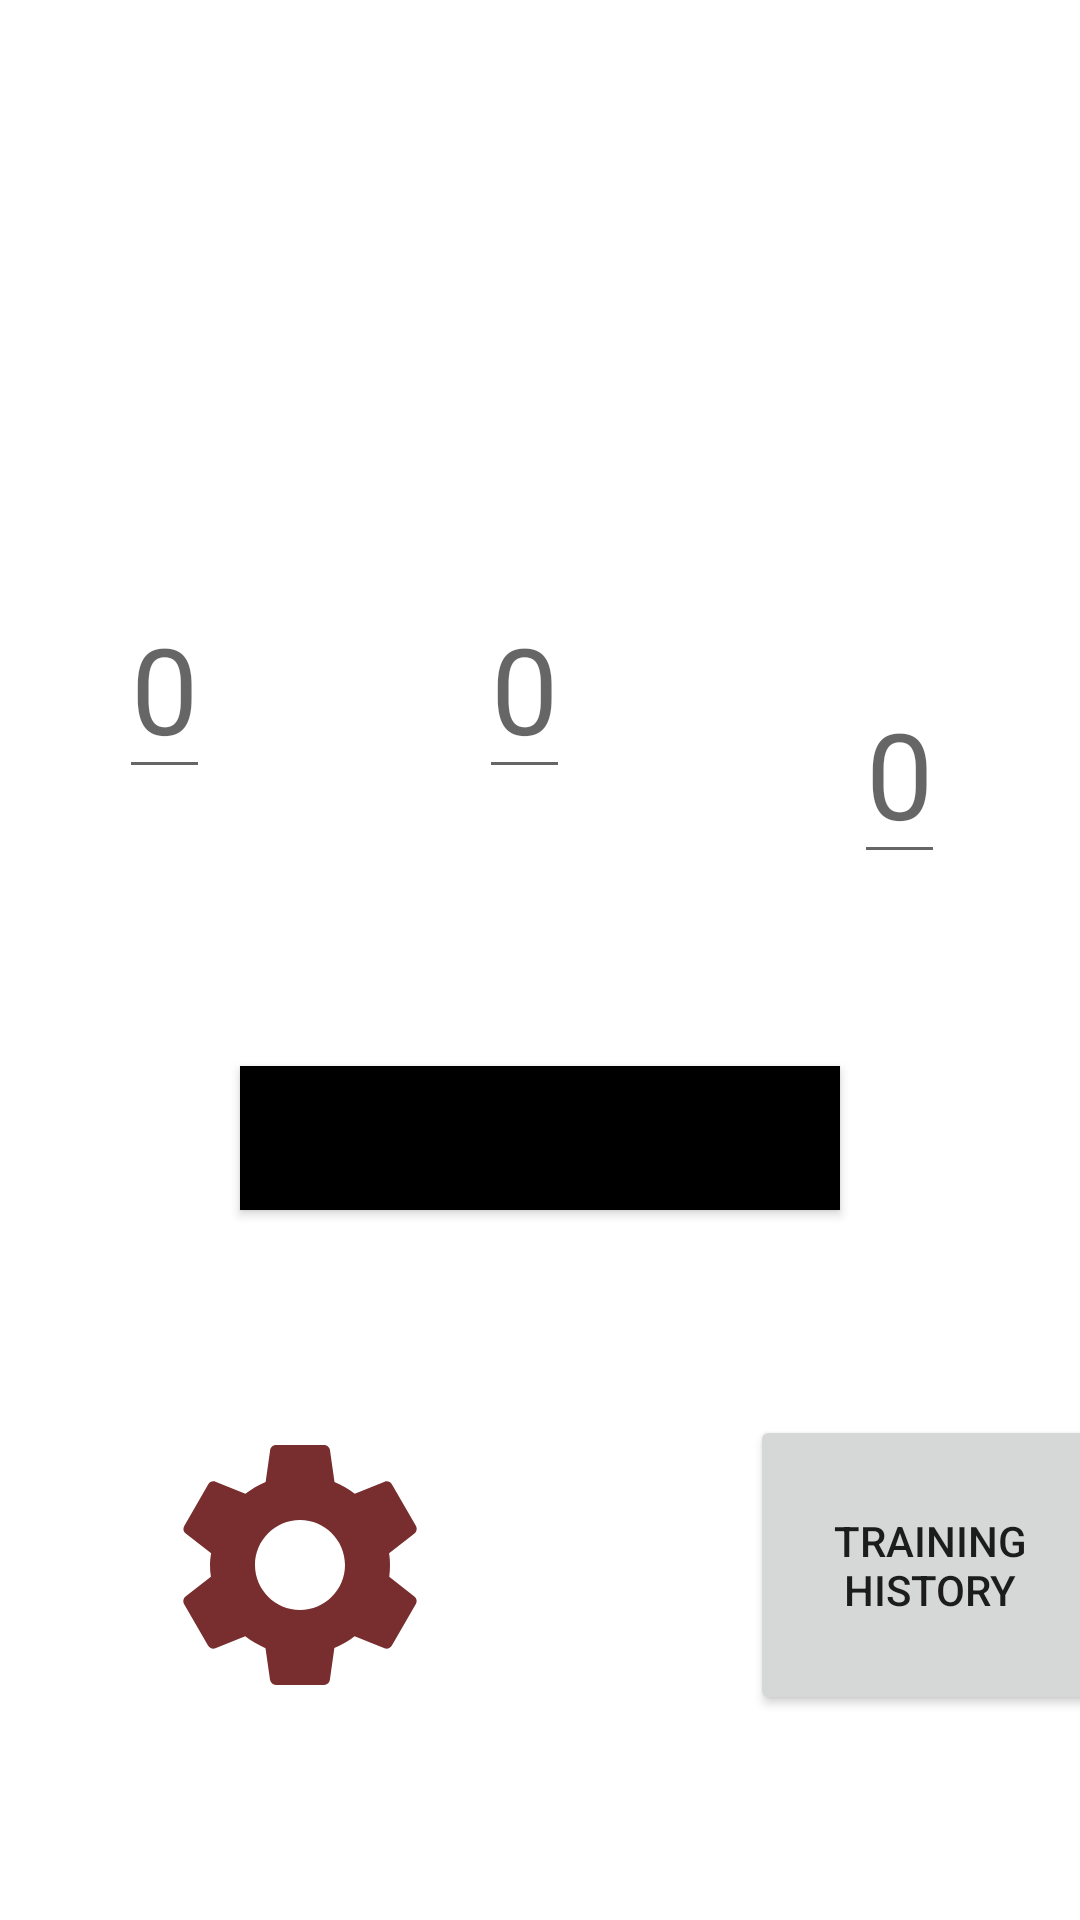

Named icons in this screenshot (1080*1920) and their bounding boxes, (x1, y1, x2, y2):
settings: (183, 1445, 417, 1685)
